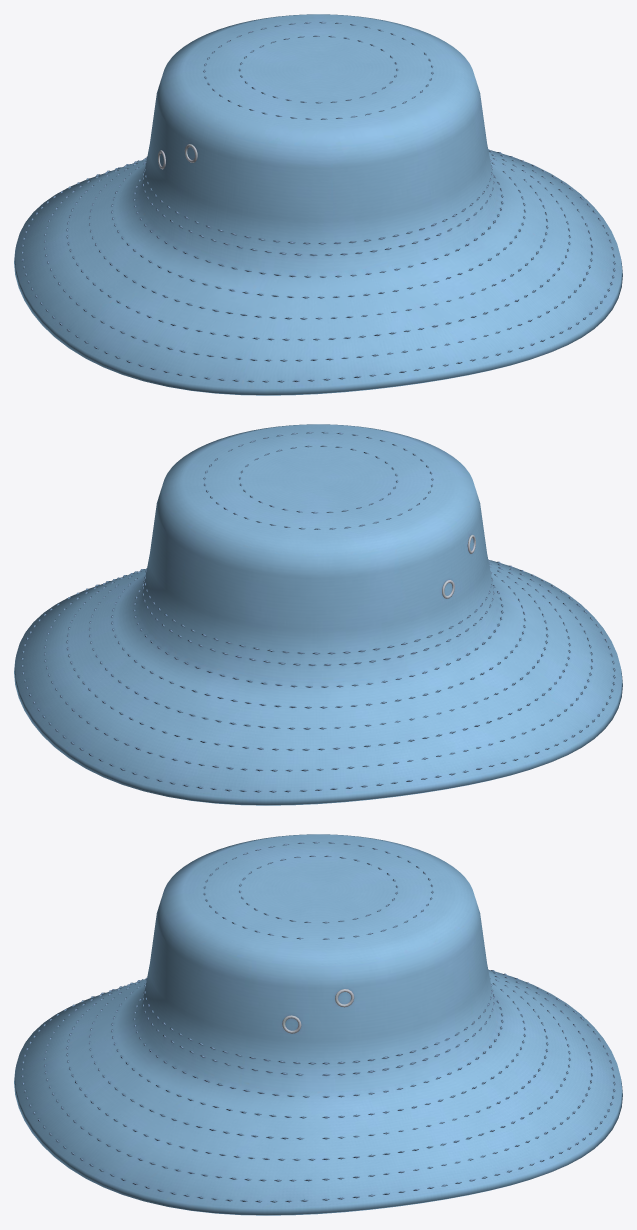
Rendered from bucket-hat.glb.
The picture shows the model from 3 angles, top to bottom: view 1: azimuth 30°, elevation 25°; view 2: azimuth 150°, elevation 25°; view 3: azimuth 270°, elevation 25°; orthographic projection.
Parts seen in each view (by area): view 1: bucket-hat_body; view 2: bucket-hat_body; view 3: bucket-hat_body.
Boxes of the visible parts, <box> form: bucket-hat_body: <box>14,14,622,395</box>; bucket-hat_body: <box>14,424,622,805</box>; bucket-hat_body: <box>14,834,622,1215</box>.
Bounding box in the file's own units: 0.3096 × 0.1181 × 0.3096.
1 material, 1 textured.
